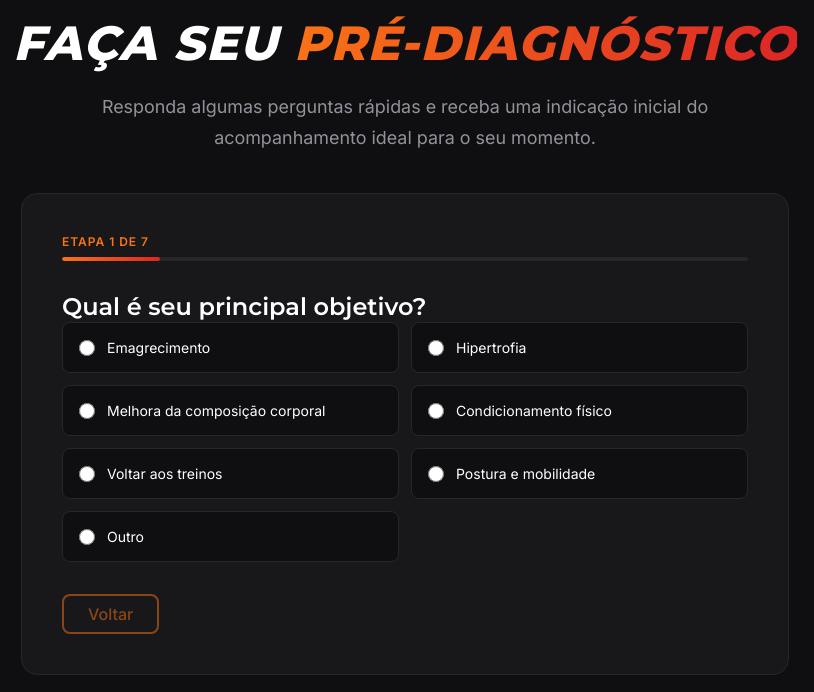
Test case: PreDiagnosis › advances on tap and recalculates the step counter when the modality changes
expect the text "Etapa 1 de 7" is shown: met, box [62,234,149,249]
Click the radio button labelled "Hipertrofia" at (436, 348), box [428,340,444,356]
Wait 250 ms
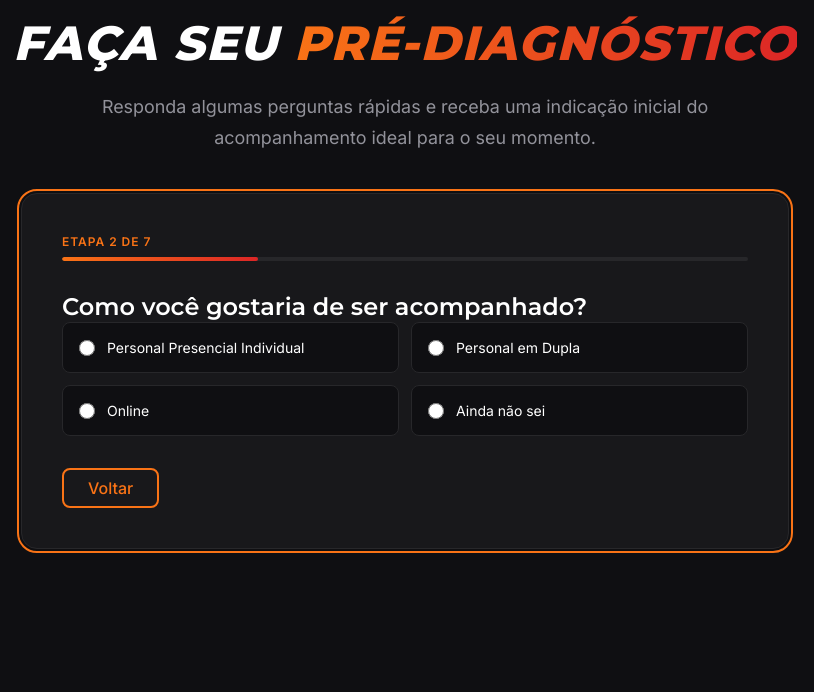
expect the text "Etapa 2 de 7" is shown: met, box [62,234,151,249]
Click the radio button labelled "Personal em Dupla" at (436, 348), box [428,340,444,356]
Wait 250 ms
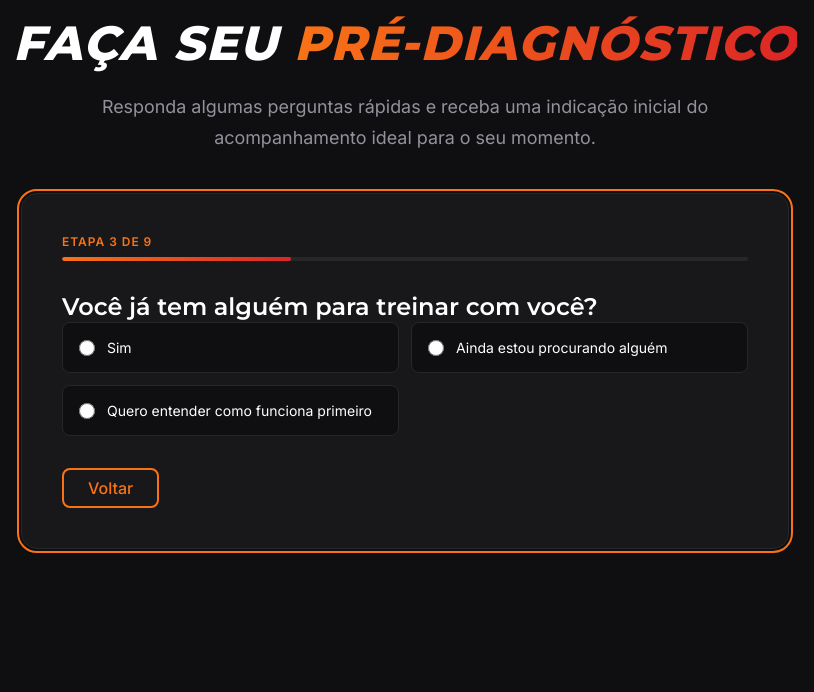
expect the text "Etapa 3 de 9" is shown: met, box [62,234,152,249]
expect the text "Você já tem alguém para treinar com você?" is shown: met, box [62,293,598,322]
Click the button "Voltar" at (111, 488), box [62,468,159,508]
Wait 250 ms
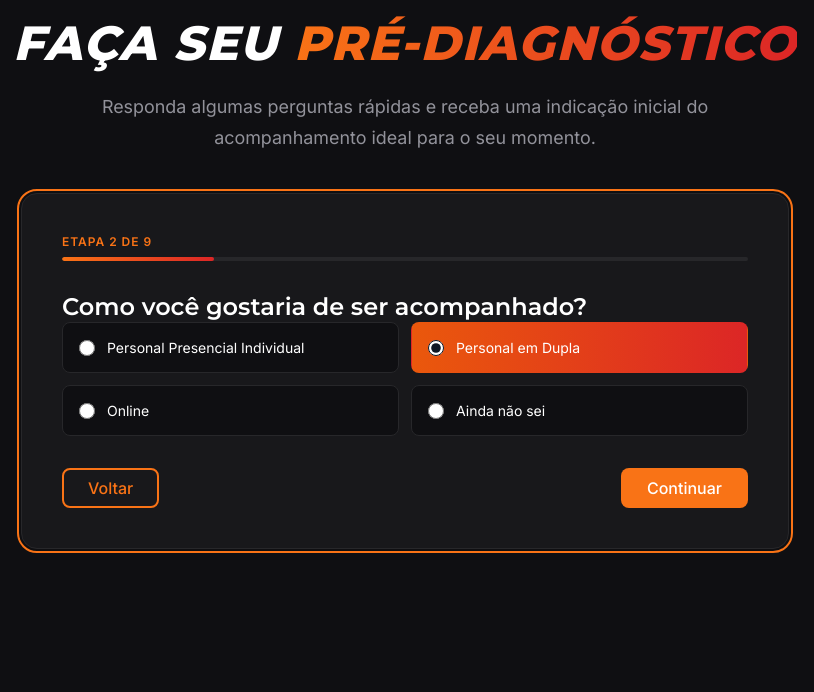
expect the radio button labelled "Personal em Dupla" is checked: met, box [428,340,444,356]
